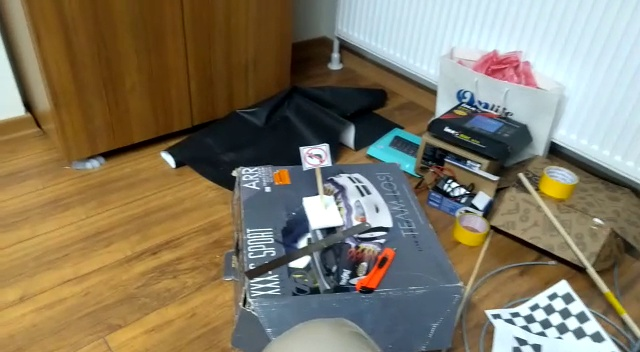sola_donulmez: (300, 145, 330, 168)
